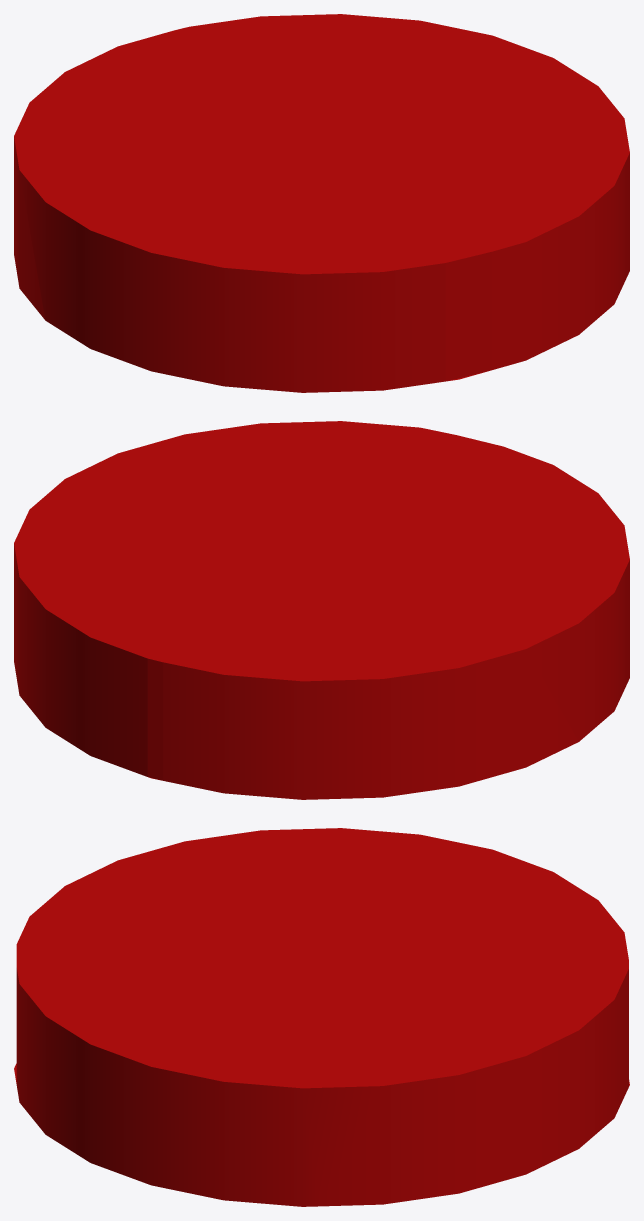
The model's file is PortalB.FBX.
3 renders of one model, top to bottom at view 1: azimuth 30°, elevation 25°; view 2: azimuth 150°, elevation 25°; view 3: azimuth 270°, elevation 25°, orthographic.
Visible parts, largest first — view 1: Layer0_001; view 2: Layer0_001; view 3: Layer0_001.
Part boxes in pixels (x1,y1,x2,y2): Layer0_001: [14, 14, 629, 392]; Layer0_001: [14, 421, 629, 799]; Layer0_001: [14, 828, 629, 1206].
Bounding box in the file's own units: 478 × 102 × 478.
